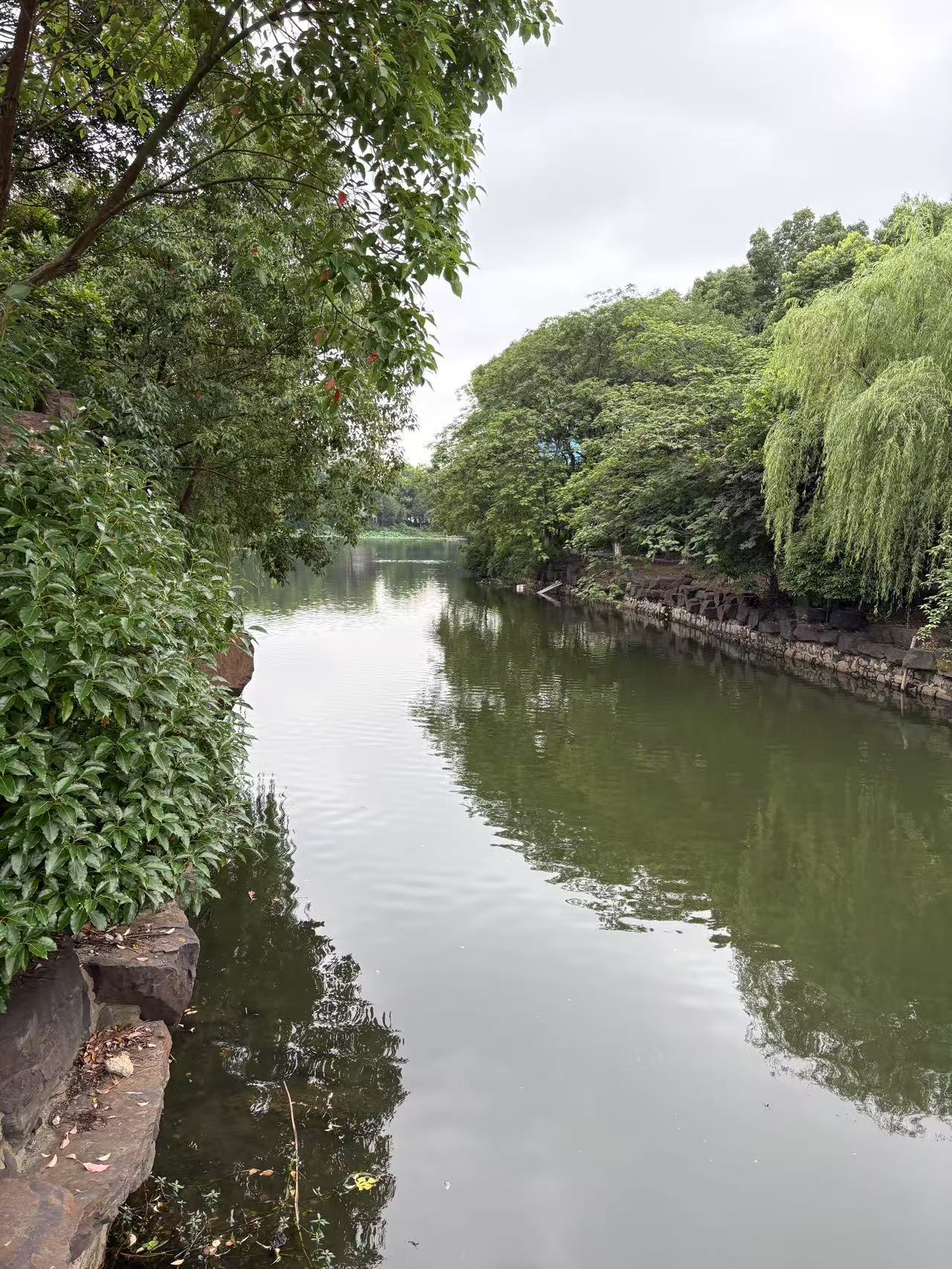Plastic wastes: (516, 584, 526, 592)
